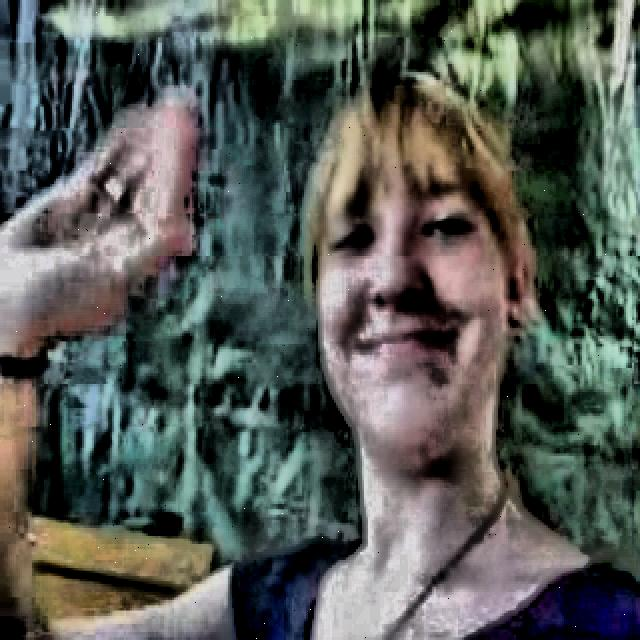T: (5, 69, 636, 638)
